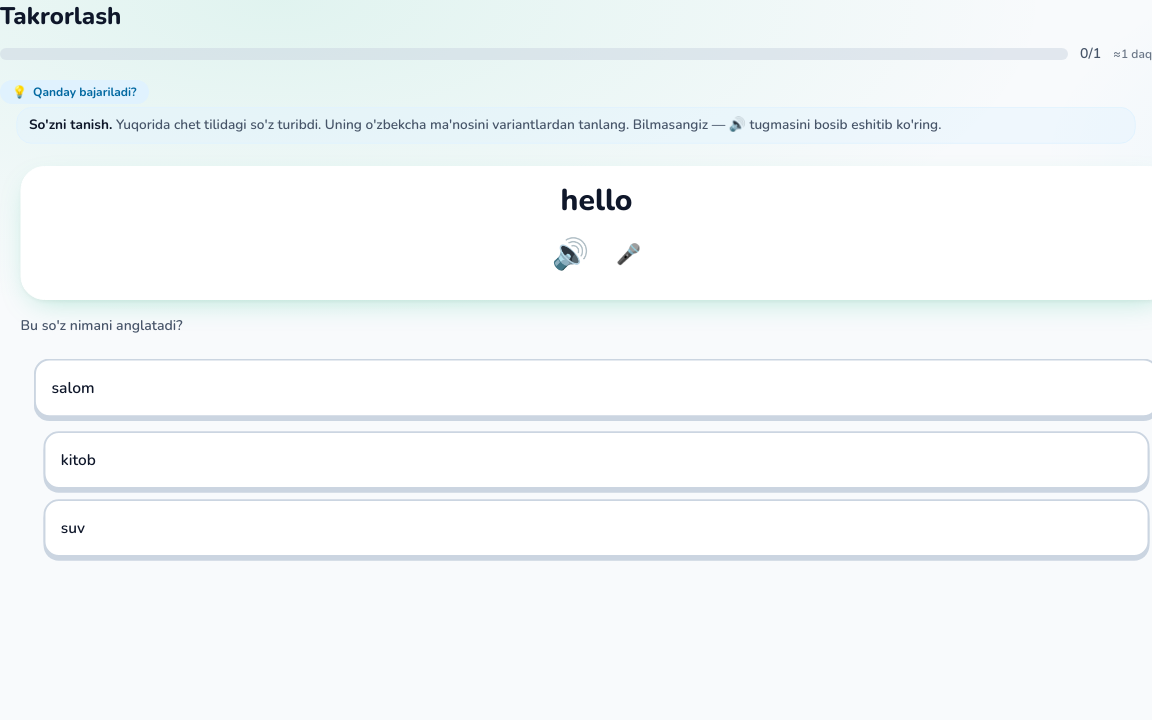
Scenario: ReviewScreen — feedback aniqligi › to‘g‘ri va xato variantlar rangdan tashqari matn bilan ham belgilanadi
The width and height of the screenshot is (1152, 720).
Expected: the text "0/1" is shown, [1080,44,1101,64]
Step 1. Click the button "kitob" → {"x": 78, "y": 460}, box [44,431,1149,489]
(page scrolled)
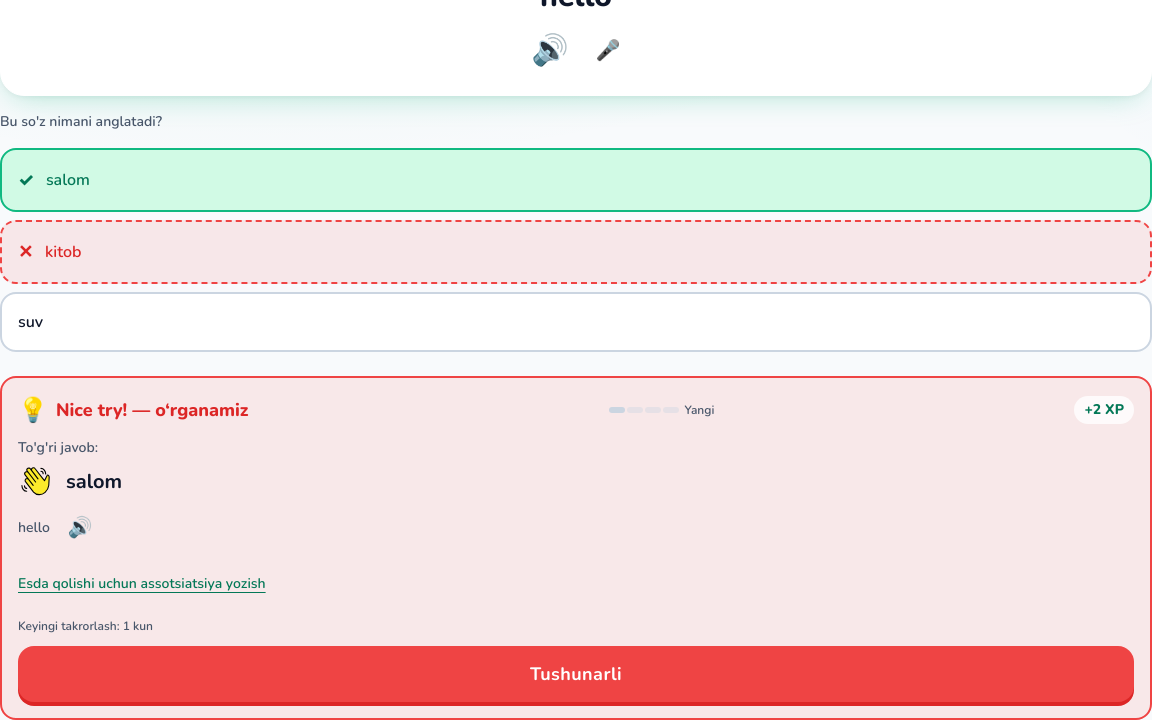
Now the text "Nice try! — o‘rganamiz" is shown, box [56,396,248,424]
